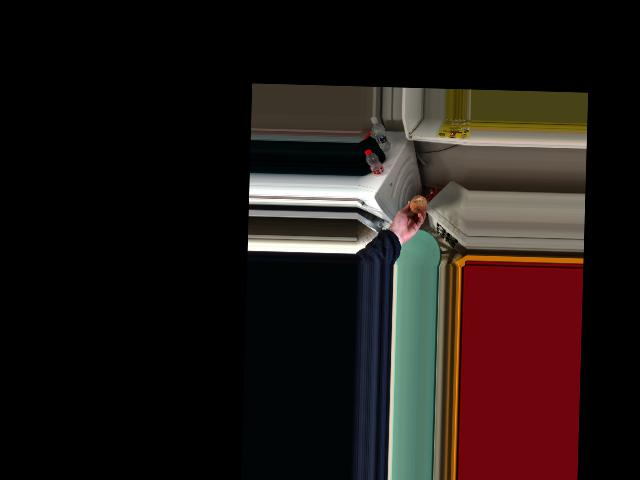sweet_potato: (409, 195, 425, 216)
